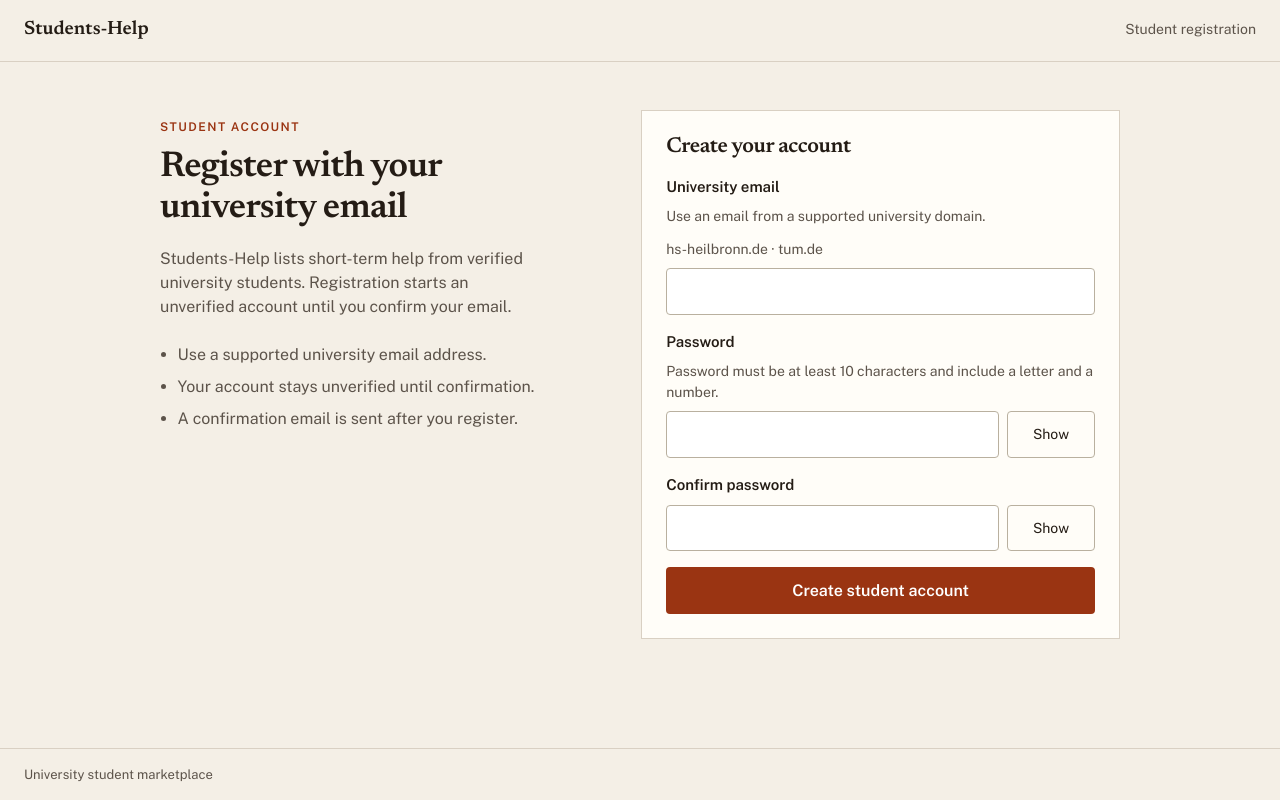
Scenario: Student registration › disables submit and shows loading feedback while the request runs
Step 1. Type "student@tum.de" into the field labelled "University email" → (881, 292), box [666,268,1095,315]
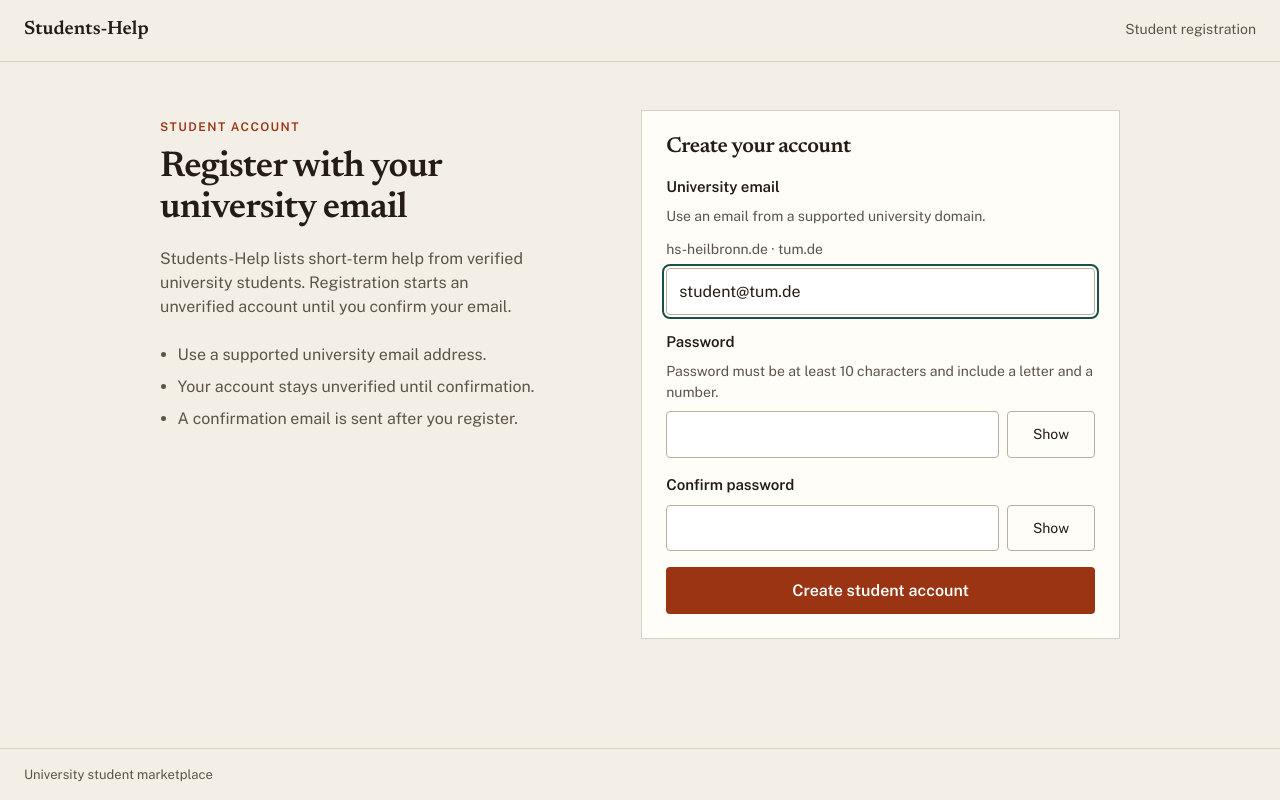
Step 2. Type "securePass12" into the password field labelled "Password" → (833, 435), box [666,411,999,458]
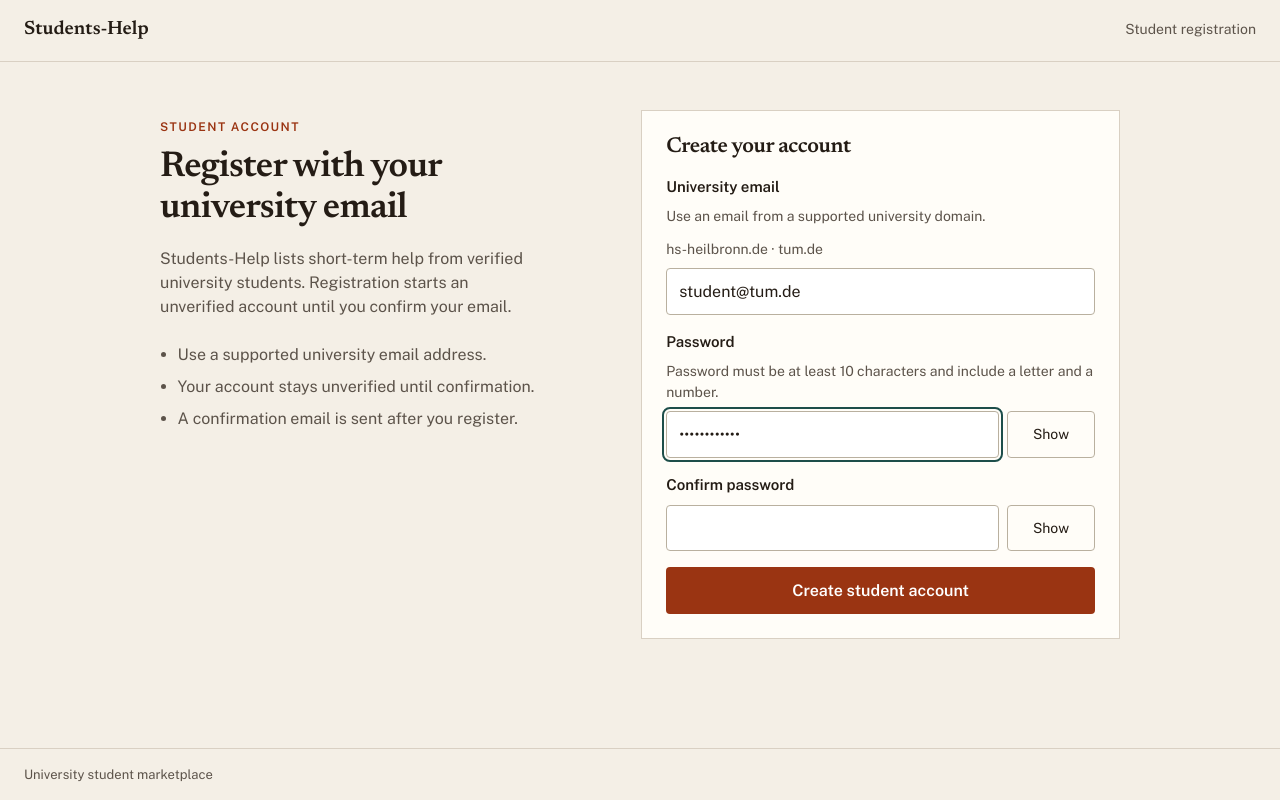
Step 3. Type "securePass12" into the password field labelled "Confirm password" → (833, 528), box [666,505,999,552]
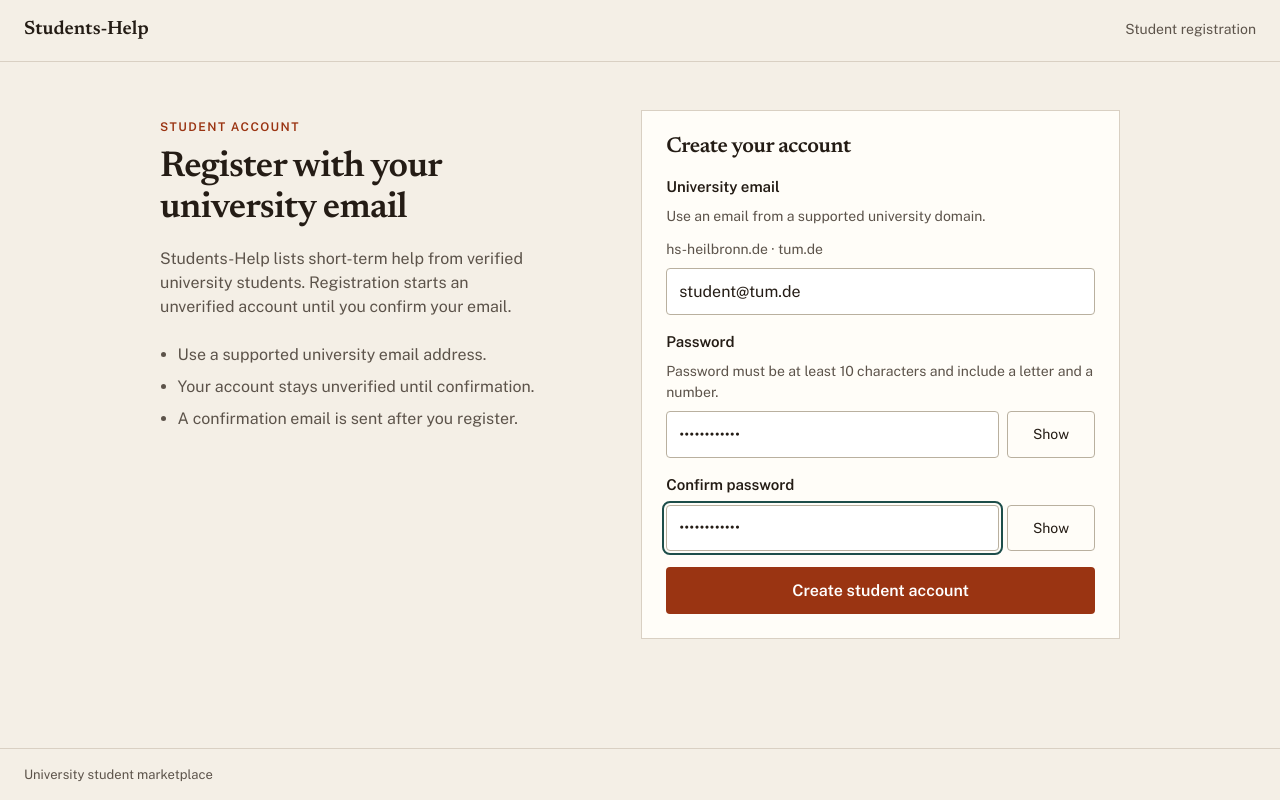
Step 4. Click the button "Create student account" → (881, 591), box [666,568,1095,614]
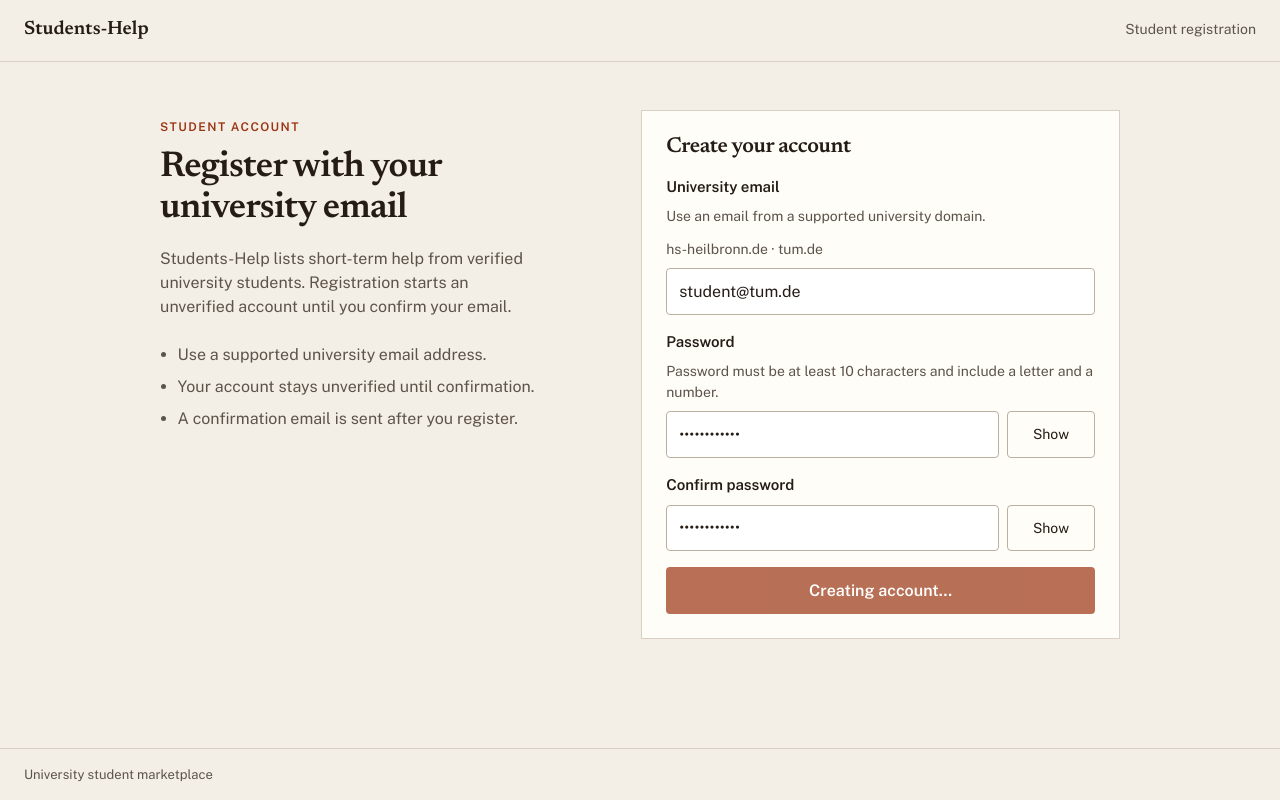
Expected: the button "Creating account…" is disabled, [666,568,1095,614]
